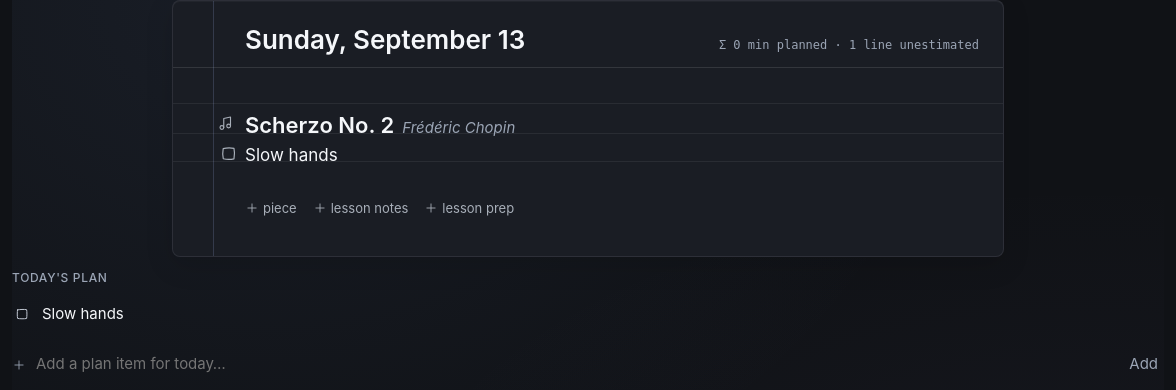
ScorePlanTab — shared-store two-way sync (spec C3) › propagates a Plan-tab text edit to the day sheet (Plan → sheet)
Step 1. Replace the text in the field named "Plan item 2" with "Slow hands at 60" → (602, 314), box x1=40 y1=299 x2=1164 y2=329
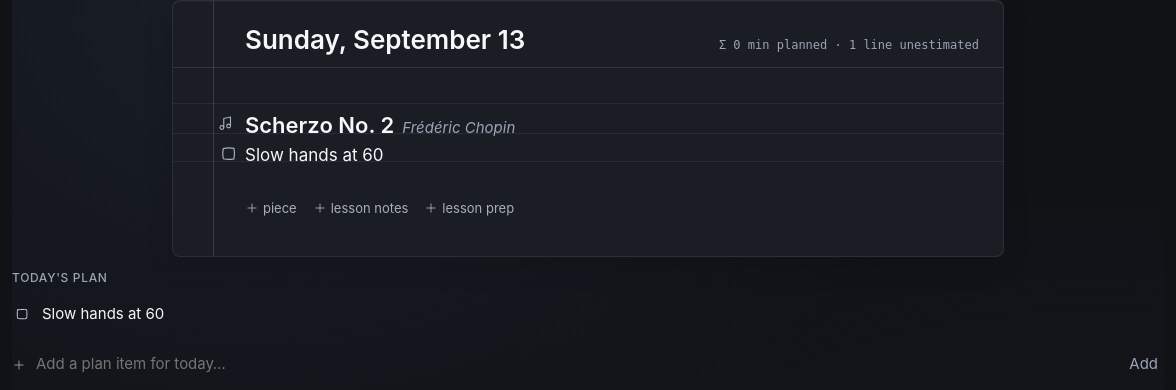
Result: the text box named "Plan item 2" holds "Slow hands at 60" at x1=245 y1=140 x2=979 y2=170
